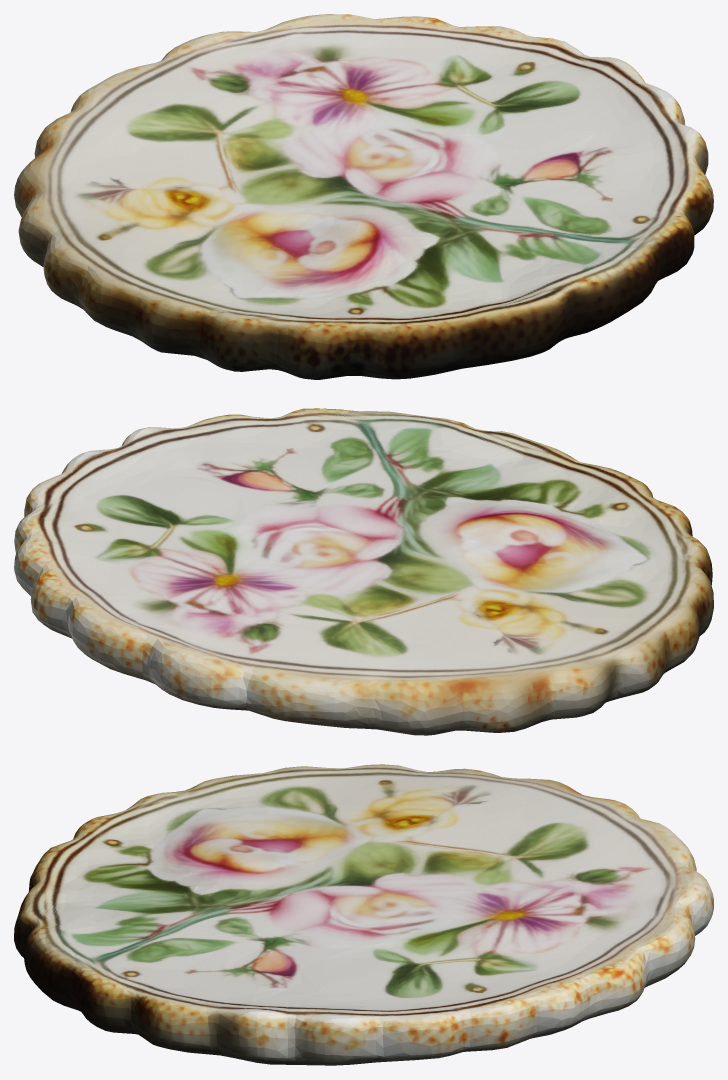
Rendered from ceramic-coaster-vintage.jpeg.glb.
The picture shows the model from 3 angles, top to bottom: view 1: azimuth 30°, elevation 25°; view 2: azimuth 150°, elevation 25°; view 3: azimuth 270°, elevation 25°; orthographic projection.
Visible parts, largest first — view 1: world; view 2: world; view 3: world.
Boxes of the visible parts, x1,y1,x2,y2 form: world: [14, 14, 713, 379]; world: [14, 408, 713, 735]; world: [14, 764, 713, 1065].
Size of the model in its own units: 0.9999 by 0.1376 by 0.9949.
1 material, 1 textured.
